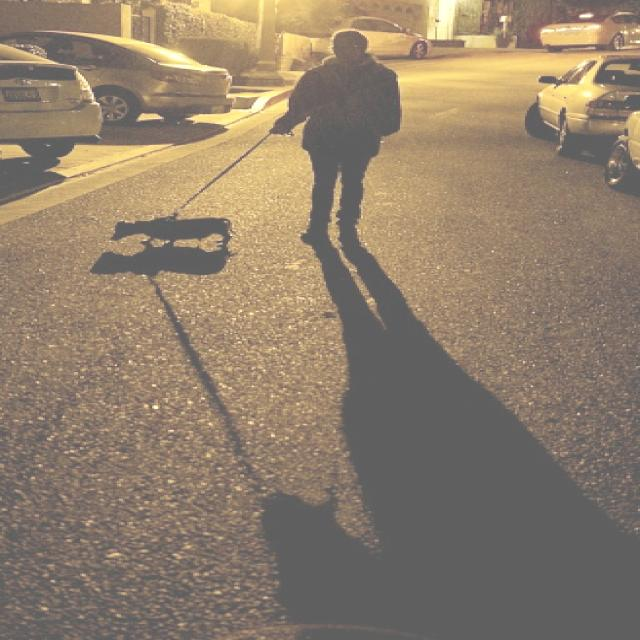Dog: (78, 204, 305, 269), (161, 209, 282, 258)
